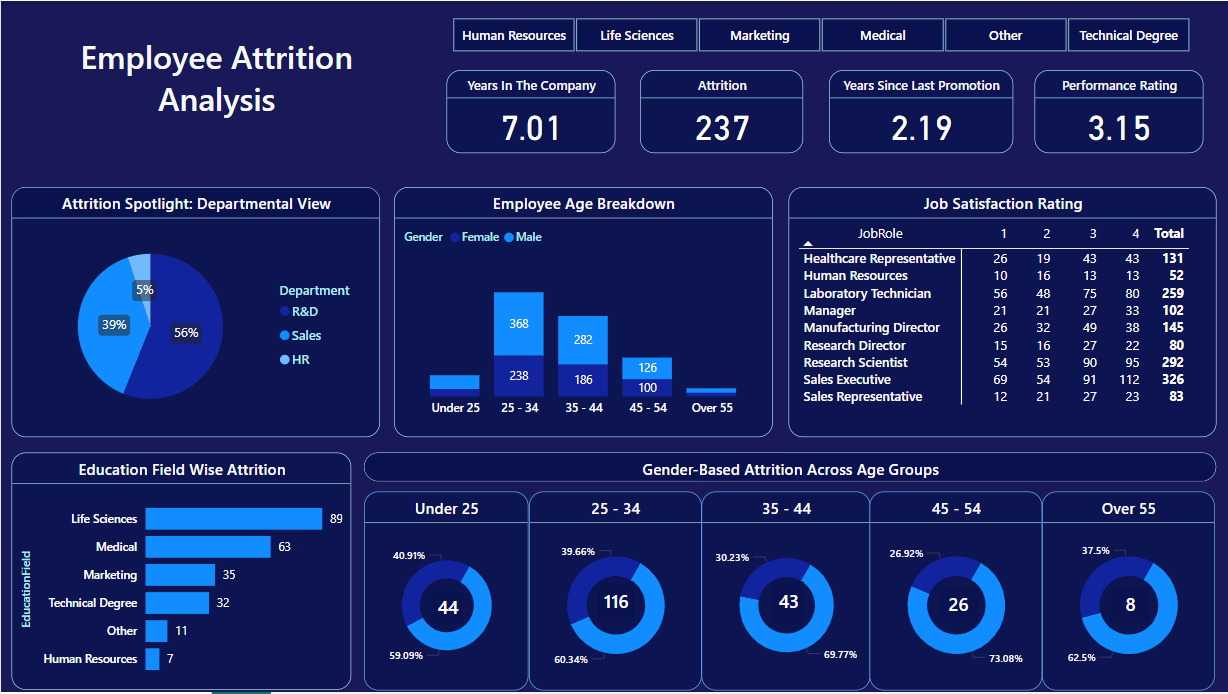

Layout of this report page (visuals, bound fields, positions):
{"tool":"powerbi","page":{"name":"Employee Attrition Analysis","canvas":[1280,720],"ordinal":0},"visuals":[{"type":"card","title":"Years In The Company","fields":{"Values":["Avg(HR Data.YearsAtCompany)"]},"box":[464.3,72.4,176.1,86.8],"z":0},{"type":"card","title":"Years Since Last Promotion","fields":{"Values":["Avg(HR Data.YearsSinceLastPromotion)"]},"box":[863.5,72.4,191.8,86.8],"z":1000},{"type":"card","title":"Performance Rating","fields":{"Values":["Avg(HR Data.PerformanceRating)"]},"box":[1077,72.4,176,86.8],"z":2000},{"type":"pieChart","title":"Attrition Spotlight: Departmental View","fields":{"Category":["HR Data.Department"],"Y":["Sum(HR Data.Attrition Count)"]},"box":[10.9,193.7,384.2,260.8],"z":3000},{"type":"columnChart","title":"Employee Age Breakdown","fields":{"Category":["Sheet1.Age Band"],"Y":["Sum(HR Data.EmployeeCount)"],"Series":["HR Data.Gender"]},"box":[410.1,194.2,394.4,260.5],"z":4000},{"type":"pivotTable","title":"Job Satisfaction Rating","fields":{"Rows":["Sheet1.JobRole"],"Columns":["Sheet1.JobSatisfaction"],"Values":["Sum(Sheet1.EmployeeCount)"]},"box":[820.1,194,446.2,260.5],"z":5000},{"type":"barChart","title":"Education Field Wise Attrition","fields":{"Category":["Sheet1.EducationField"],"Y":["Sum(Sheet1.Attrition Count)"]},"box":[10.2,471.2,354.2,247.5],"z":6000},{"type":"donutChart","title":"Under 25","fields":{"Category":["Sheet1.Gender"],"Y":["Sum(Sheet1.Attrition Count)"],"Series":["Sheet1.Age Band"]},"box":[378.7,511.4,171.3,207.4],"z":7000},{"type":"textbox","title":"Gender-Based Attrition Across Age Groups","box":[378.7,470.7,887.8,30.2],"z":8000},{"type":"donutChart","title":"25 - 34","fields":{"Category":["Sheet1.Gender"],"Y":["Sum(Sheet1.Attrition Count)"],"Series":["Sheet1.Age Band"]},"box":[549.9,511.4,179.7,207.4],"z":9000},{"type":"donutChart","title":"35 - 44","fields":{"Category":["Sheet1.Gender"],"Y":["Sum(Sheet1.Attrition Count)"],"Series":["Sheet1.Age Band"]},"box":[729.6,511.4,176.1,207.4],"z":10000},{"type":"donutChart","title":"45 - 54","fields":{"Category":["Sheet1.Gender"],"Y":["Sum(Sheet1.Attrition Count)"],"Series":["Sheet1.Age Band"]},"box":[905.7,511.8,179.8,207.2],"z":11000},{"type":"donutChart","title":"Over 55","fields":{"Category":["Sheet1.Gender"],"Y":["Sum(Sheet1.Attrition Count)"],"Series":["Sheet1.Age Band"]},"box":[1085.4,511.8,179.8,207.2],"z":12000},{"type":"card","fields":{"Values":["Sum(Sheet1.Attrition Count)"]},"box":[448.6,615.1,33.8,33.8],"z":13000},{"type":"card","fields":{"Values":["Sum(Sheet1.Attrition Count)"]},"box":[1156.6,612.7,39.8,35],"z":14000},{"type":"card","fields":{"Values":["Sum(Sheet1.Attrition Count)"]},"box":[976.9,612.7,41,35],"z":15000},{"type":"card","fields":{"Values":["Sum(Sheet1.Attrition Count)"]},"box":[804.4,605.4,31.4,44.6],"z":16000},{"type":"card","fields":{"Values":["Sum(Sheet1.Attrition Count)"]},"box":[622.3,605.4,37.4,43.4],"z":17000},{"type":"slicer","fields":{"Values":["Sheet1.EducationField"]},"box":[446.2,10.9,816.5,48.2],"z":18000},{"type":"textbox","title":"Employee Attrition Analysis","box":[55.5,35,340.1,121.8],"z":19000},{"type":"card","title":"Attrition","fields":{"Values":["Sum(Sheet1.Attrition Count)"]},"box":[665.7,72.4,170.1,86.8],"z":20000}]}

Visuals, with their boxes in screenshot pixels (x1, y1, x2, y2), scaled from the page's 1280x720 canvas onto the 1228x694 screenshot:
"Years In The Company" card: 445,70,614,153
"Years Since Last Promotion" card: 828,70,1012,153
"Performance Rating" card: 1033,70,1202,153
"Attrition Spotlight: Departmental View" pieChart: 10,187,379,438
"Employee Age Breakdown" columnChart: 393,187,772,438
"Job Satisfaction Rating" pivotTable: 787,187,1215,438
"Education Field Wise Attrition" barChart: 10,454,350,693
"Under 25" donutChart: 363,493,528,693
"Gender-Based Attrition Across Age Groups" textbox: 363,454,1215,483
"25 - 34" donutChart: 528,493,700,693
"35 - 44" donutChart: 700,493,869,693
"45 - 54" donutChart: 869,493,1041,693
"Over 55" donutChart: 1041,493,1214,693
card - Sum(Sheet1.Attrition Count): 430,593,463,625
card - Sum(Sheet1.Attrition Count): 1110,591,1148,624
card - Sum(Sheet1.Attrition Count): 937,591,977,624
card - Sum(Sheet1.Attrition Count): 772,584,802,627
card - Sum(Sheet1.Attrition Count): 597,584,633,625
slicer - Sheet1.EducationField: 428,11,1211,57
"Employee Attrition Analysis" textbox: 53,34,380,151
"Attrition" card: 639,70,802,153
